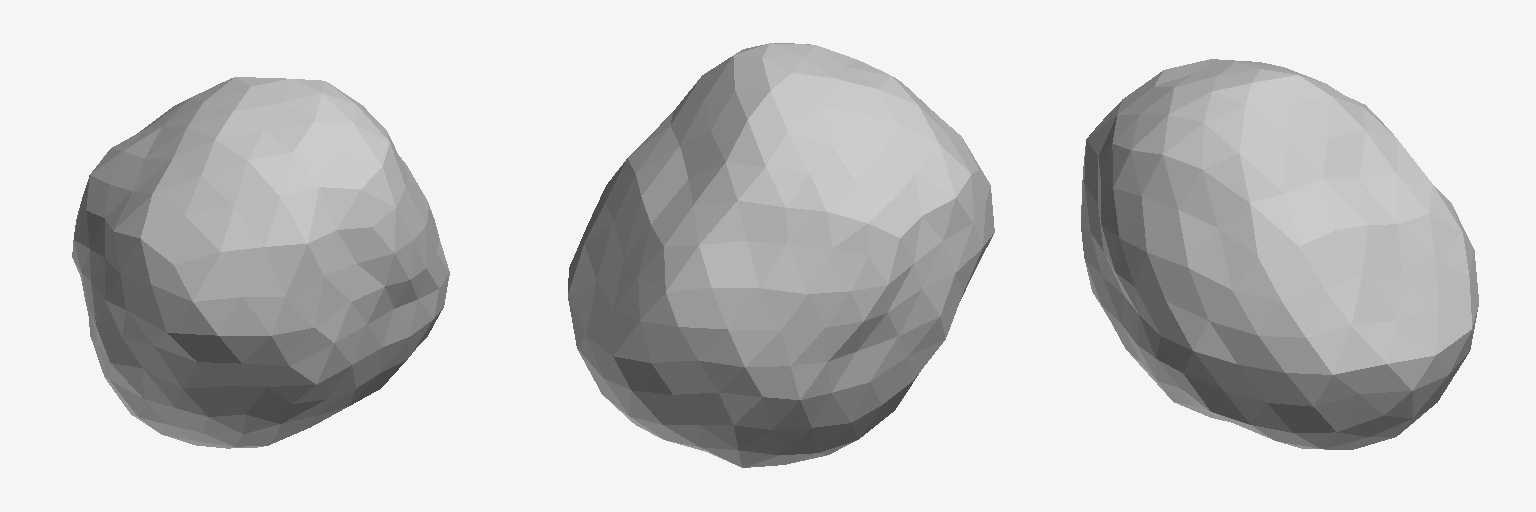
The model's file is asteroid23.obj.
The picture shows the model from 3 angles: view 1: azimuth 30°, elevation 25°; view 2: azimuth 150°, elevation 25°; view 3: azimuth 270°, elevation 25°; orthographic projection.
Parts seen in each view (by area): view 1: asteroid; view 2: asteroid; view 3: asteroid.
Boxes of the visible parts, x1,y1,x2,y2 form: asteroid: [72, 77, 449, 448]; asteroid: [568, 43, 994, 467]; asteroid: [1081, 59, 1478, 449].
Bounding box in the file's own units: 46 × 46.58 × 46.01.